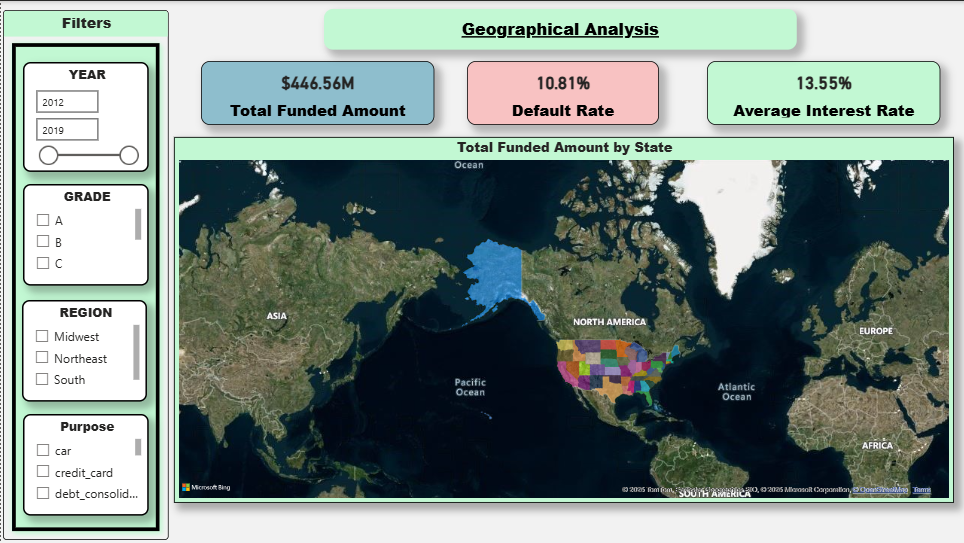

What the dashboard file says about the page in this screenshot:
{"tool":"powerbi","page":{"name":"4. Geographical Analysis","canvas":[1280,720],"ordinal":4},"visuals":[{"type":"shape","title":"Filters","box":[2.9,11.4,220,704.3],"z":0},{"type":"slicer","title":"YEAR","fields":{"Values":["loan_cleaned.Issue_year"]},"box":[29.2,80.6,166.7,145.8],"z":1000},{"type":"card","fields":{"Values":["Dax.Total Funded Amount"]},"box":[265.1,79.4,310.4,85],"z":2000},{"type":"card","fields":{"Values":["Dax.Default Rate"]},"box":[619.4,79.4,255.1,85],"z":4000},{"type":"card","fields":{"Values":["Dax.Average Interest Rate"]},"box":[938.4,79.4,310.4,85],"z":5000},{"type":"filledMap","title":"Total Funded Amount by State ","fields":{"Category":["customer_cleaned.Addr_State"],"Series":["customer_cleaned.Addr_State"]},"box":[229.6,180,1036.2,486.2],"z":6000},{"type":"slicer","title":"GRADE","fields":{"Values":["loan_cleaned.GRADE"]},"box":[29.2,243.1,166.7,134.7],"z":9000},{"type":"slicer","title":"REGION","fields":{"Values":["state_region.REGION "]},"box":[28.1,396.7,166,135],"z":10000},{"type":"slicer","title":"Purpose","fields":{"Values":["loan_purposes.purpose"]},"box":[29.2,548.6,166.7,134.7],"z":11000},{"type":"textbox","box":[429.2,11.1,627.8,54.2],"z":12000}]}

Visuals, with their boxes in screenshot pixels (x1, y1, x2, y2), scaled from the page's 1280x720 canvas onto the 964x543 screenshot:
"Filters" shape: detection(2, 9, 168, 540)
"YEAR" slicer: detection(22, 61, 148, 171)
card - Dax.Total Funded Amount: detection(200, 60, 433, 124)
card - Dax.Default Rate: detection(466, 60, 659, 124)
card - Dax.Average Interest Rate: detection(707, 60, 941, 124)
"Total Funded Amount by State " filledMap: detection(173, 136, 953, 502)
"GRADE" slicer: detection(22, 183, 148, 285)
"REGION" slicer: detection(21, 299, 146, 401)
"Purpose" slicer: detection(22, 414, 148, 515)
textbox: detection(323, 8, 796, 49)
